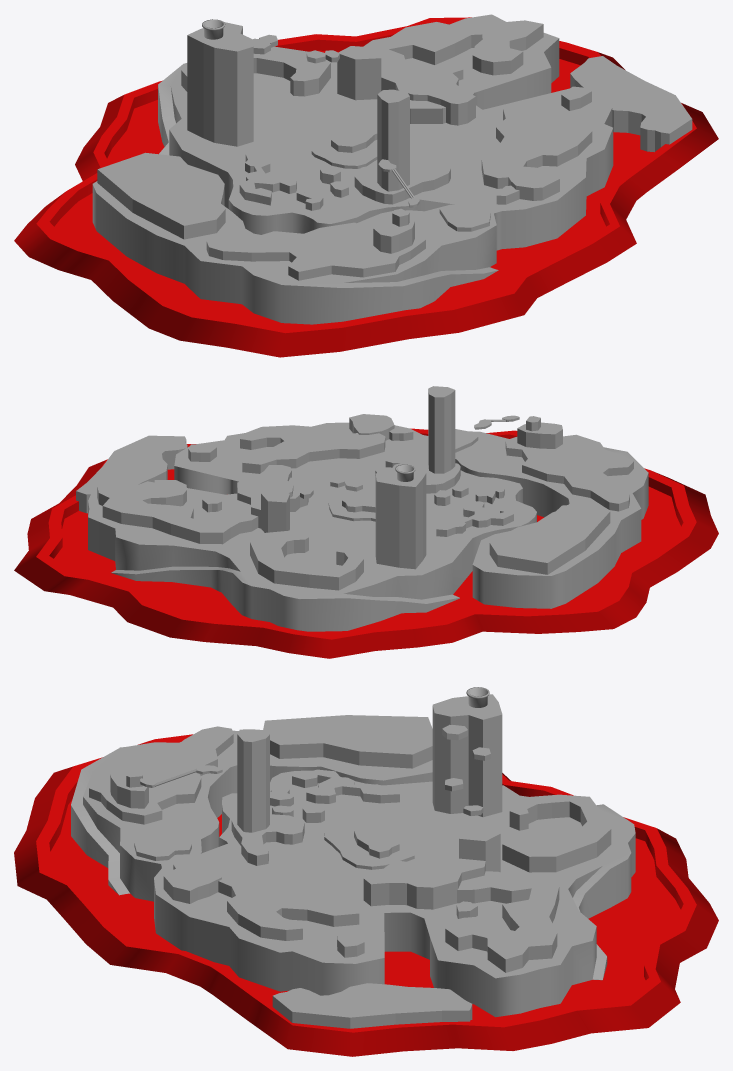
Rendered from factory.fbx.
3 views of the same model, one above another, from view 1: azimuth 30°, elevation 25°; view 2: azimuth 150°, elevation 25°; view 3: azimuth 270°, elevation 25° (orthographic). The views are drawn at different scales.
Visible parts, largest first — view 1: pCube1, PolyShape__17_1:PolyShape_12_, PolyShape__17_1:PolyShape_29_, PolyShape__17_1:PolyShape_26_, PolyShape__17_1:PolyShape_34_, PolyShape__17_1:PolyShape_41_, PolyShape__17_1:PolyShape_30_, PolyShape__17_1:PolyShape_21_, PolyShape__17_1:PolyShape_25_, PolyShape__17_1:PolyShape_39_, PolyShape__17_1:PolyShape_43_, PolyShape__17_1:PolyShape_14_ (+8 smaller); view 2: pCube1, PolyShape__17_1:PolyShape_12_, PolyShape__17_1:PolyShape_41_, PolyShape__17_1:PolyShape_26_, PolyShape__17_1:PolyShape_34_, PolyShape__17_1:PolyShape_29_, PolyShape__17_1:PolyShape_25_, PolyShape__17_1:PolyShape_43_, PolyShape__17_1:PolyShape_30_, PolyShape__17_1:PolyShape_21_, PolyShape__17_1:PolyShape_39_, PolyShape__17_1:PolyShape_17_ (+6 smaller); view 3: pCube1, PolyShape__17_1:PolyShape_12_, PolyShape__17_1:PolyShape_41_, PolyShape__17_1:PolyShape_34_, PolyShape__17_1:PolyShape_29_, PolyShape__17_1:PolyShape_30_, PolyShape__17_1:PolyShape_26_, PolyShape__17_1:PolyShape_25_, PolyShape__17_1:PolyShape_21_, PolyShape__17_1:PolyShape_43_, PolyShape__17_1:PolyShape_39_, PolyShape__17_1:PolyShape_17_ (+7 smaller).
Part boxes in pixels (bbox=[...]): pCube1: bbox=[92, 22, 613, 324]; PolyShape__17_1:PolyShape_12_: bbox=[14, 17, 718, 357]; PolyShape__17_1:PolyShape_29_: bbox=[187, 22, 253, 146]; PolyShape__17_1:PolyShape_26_: bbox=[206, 222, 425, 280]; PolyShape__17_1:PolyShape_34_: bbox=[97, 152, 225, 239]; PolyShape__17_1:PolyShape_41_: bbox=[363, 14, 543, 75]; PolyShape__17_1:PolyShape_30_: bbox=[570, 56, 692, 152]; PolyShape__17_1:PolyShape_21_: bbox=[337, 46, 475, 125]; PolyShape__17_1:PolyShape_25_: bbox=[481, 102, 592, 188]; PolyShape__17_1:PolyShape_39_: bbox=[377, 89, 409, 191]; PolyShape__17_1:PolyShape_43_: bbox=[181, 46, 330, 96]; PolyShape__17_1:PolyShape_14_: bbox=[354, 164, 450, 204]; pCube1: bbox=[88, 422, 648, 631]; PolyShape__17_1:PolyShape_12_: bbox=[14, 428, 718, 658]; PolyShape__17_1:PolyShape_41_: bbox=[97, 480, 258, 544]; PolyShape__17_1:PolyShape_26_: bbox=[505, 434, 633, 511]; PolyShape__17_1:PolyShape_34_: bbox=[489, 503, 610, 574]; PolyShape__17_1:PolyShape_29_: bbox=[375, 461, 426, 569]; PolyShape__17_1:PolyShape_25_: bbox=[240, 425, 385, 473]; PolyShape__17_1:PolyShape_43_: bbox=[250, 530, 363, 590]; PolyShape__17_1:PolyShape_30_: bbox=[76, 435, 187, 513]; PolyShape__17_1:PolyShape_21_: bbox=[237, 465, 293, 532]; PolyShape__17_1:PolyShape_39_: bbox=[428, 386, 455, 473]; PolyShape__17_1:PolyShape_17_: bbox=[436, 501, 513, 536]; pCube1: bbox=[71, 730, 635, 1017]; PolyShape__17_1:PolyShape_12_: bbox=[14, 734, 718, 1056]; PolyShape__17_1:PolyShape_41_: bbox=[445, 871, 559, 972]; PolyShape__17_1:PolyShape_34_: bbox=[263, 715, 432, 768]; PolyShape__17_1:PolyShape_29_: bbox=[432, 694, 502, 817]; PolyShape__17_1:PolyShape_30_: bbox=[272, 983, 472, 1028]; PolyShape__17_1:PolyShape_26_: bbox=[89, 726, 233, 824]; PolyShape__17_1:PolyShape_25_: bbox=[208, 864, 359, 940]; PolyShape__17_1:PolyShape_21_: bbox=[363, 825, 500, 909]; PolyShape__17_1:PolyShape_43_: bbox=[502, 794, 611, 872]; PolyShape__17_1:PolyShape_39_: bbox=[237, 729, 269, 832]; PolyShape__17_1:PolyShape_17_: bbox=[292, 769, 399, 803].
Size of the model in its own units: 1.9 by 0.4693 by 1.73.
